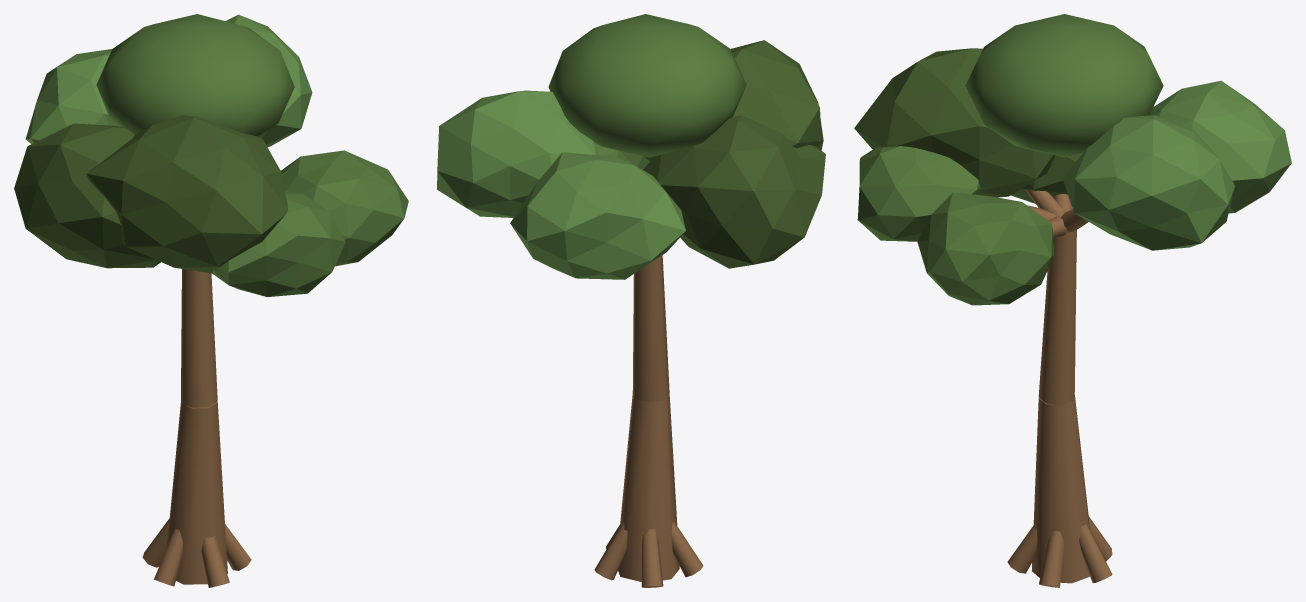
File: land.glb
The picture shows the model from 3 angles, left to right: view 1: azimuth 30°, elevation 25°; view 2: azimuth 150°, elevation 25°; view 3: azimuth 270°, elevation 25°; orthographic projection.
Visible parts, largest first — view 1: jequitiba; view 2: jequitiba; view 3: jequitiba.
Part boxes in pixels (box(x1,y1,x2,y2)): jequitiba: box(14, 14, 408, 587); jequitiba: box(437, 14, 825, 587); jequitiba: box(854, 14, 1291, 587).
Size of the model in its own units: 4.36 by 6.97 by 5.08.
